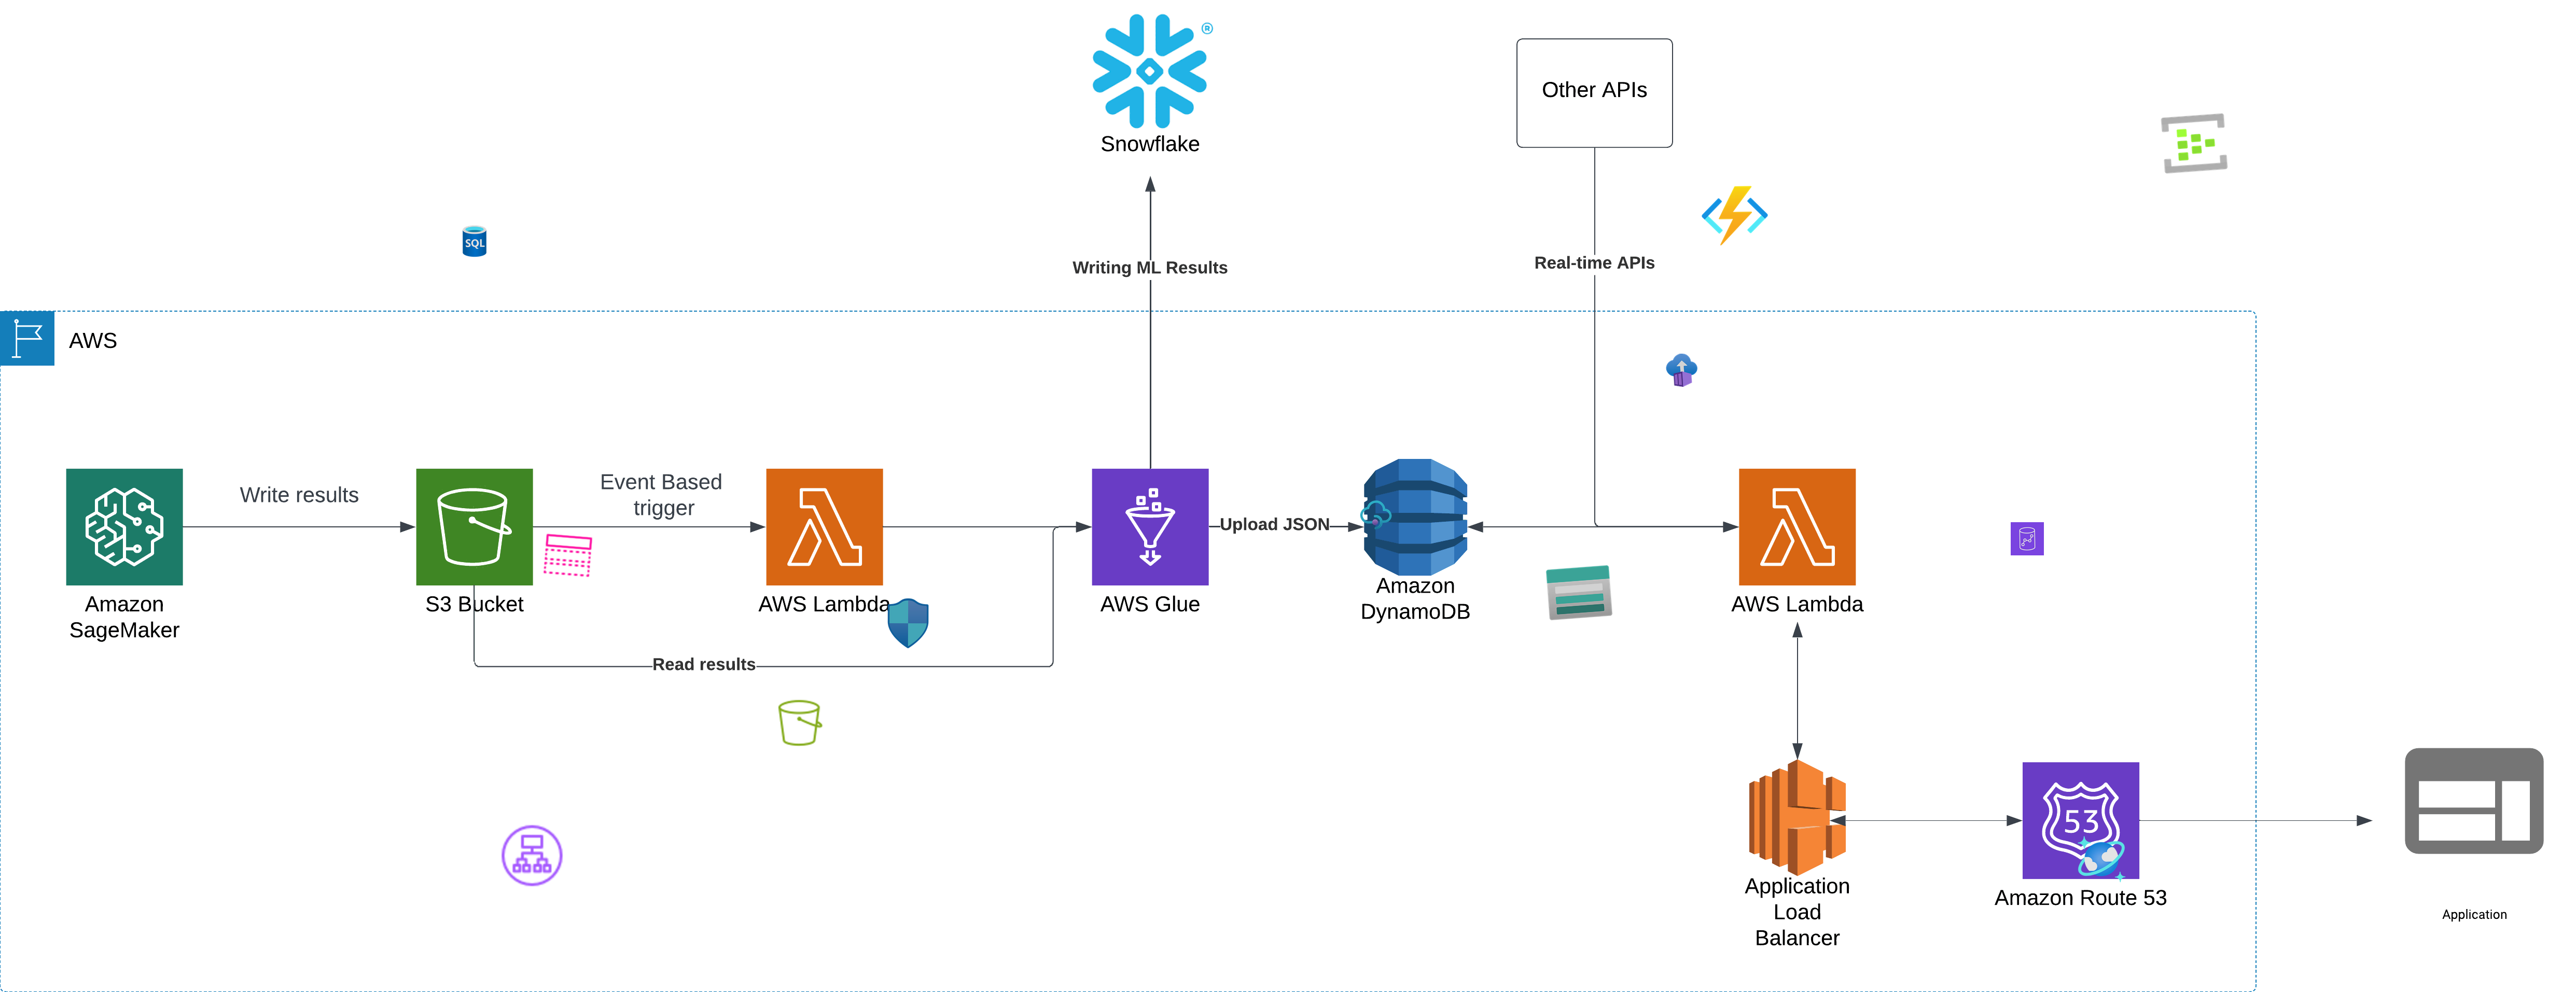aws_amazon_redshift: (2011, 522, 2044, 555)
aws_elastic_load_balancing_application_load_balancer: (498, 821, 565, 889)
aws_simple_notification_service_topic: (540, 529, 595, 583)
aws_simple_storage_service_s3_standard: (775, 698, 826, 749)
azure_api_management_services: (1359, 498, 1393, 532)
azure_container_instances: (1664, 353, 1699, 388)
azure_cosmos_db: (2075, 833, 2127, 885)
azure_event_hubs: (2159, 107, 2229, 179)
azure_function_apps: (1700, 182, 1768, 250)
azure_network_security_groups: (882, 598, 933, 649)
azure_sql_database: (457, 223, 491, 258)
azure_storage_accounts: (1543, 557, 1615, 629)
